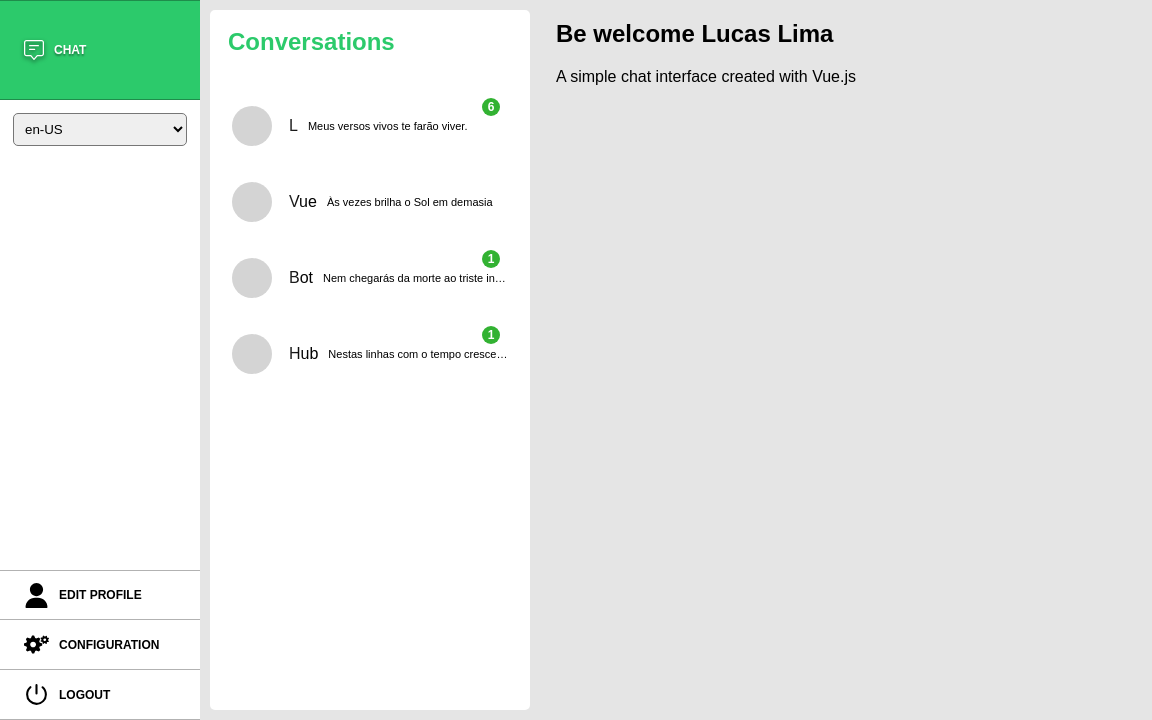
Scenario: Validar Textos menu e Bem-vindo › чувствуй себя как дома
Select "ru-RU" in the dropdown with class "languages" at (100, 129), box [13,113,186,145]
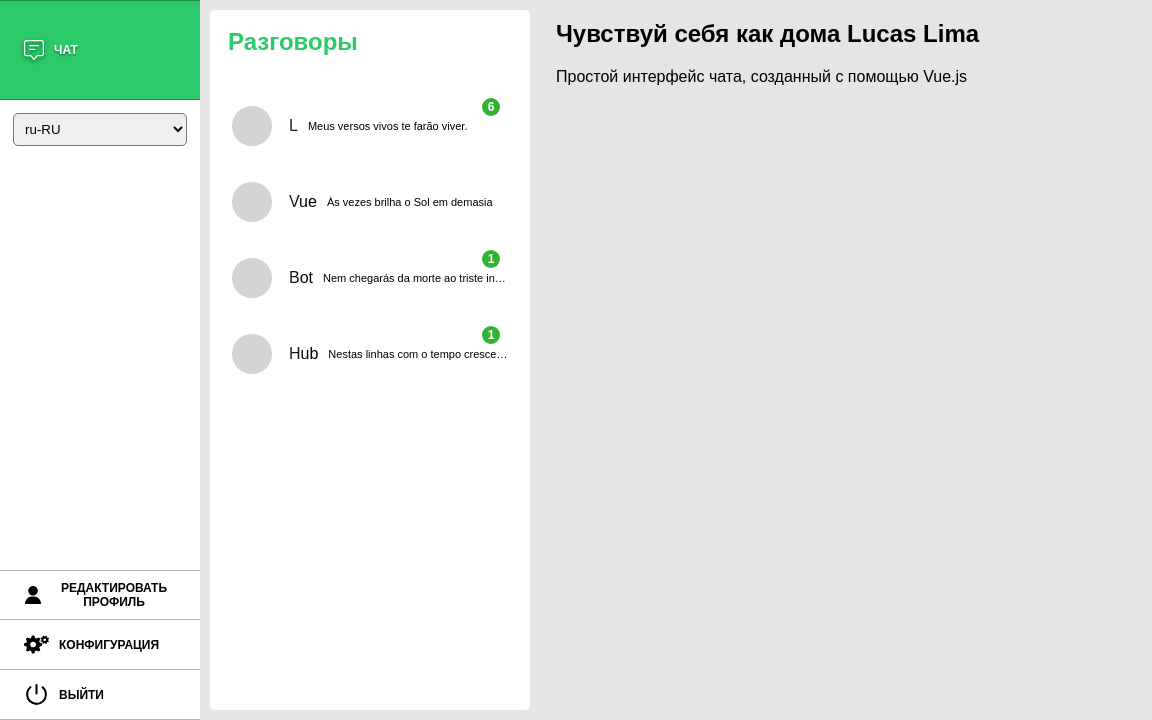
Now the button "ЧАТ" is shown, box [0,0,200,100]
Now the button "Редактировать профиль" is shown, box [0,570,200,620]
Now the button "Конфигурация" is shown, box [0,620,200,670]
